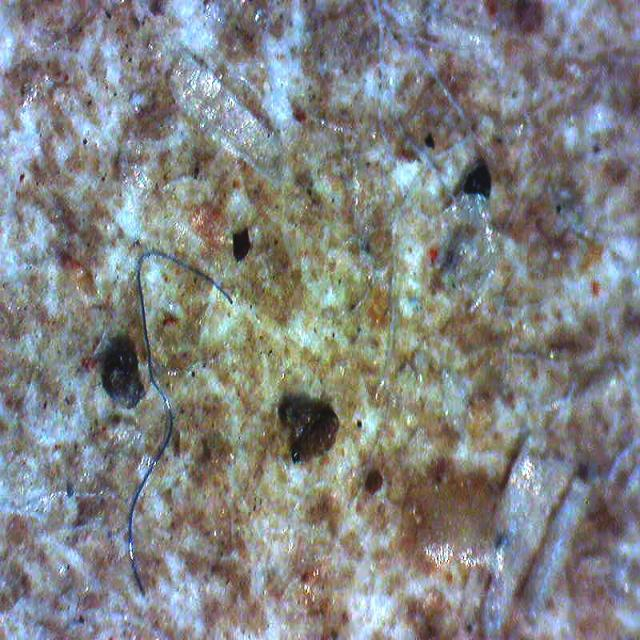microplastic: (128, 249, 233, 597)
